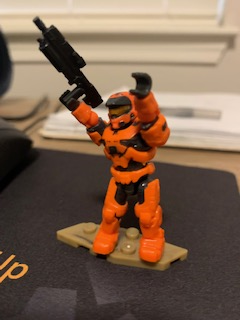rifle: (30, 12, 105, 110)
spartan: (52, 72, 170, 266)
up: (57, 70, 173, 170)
